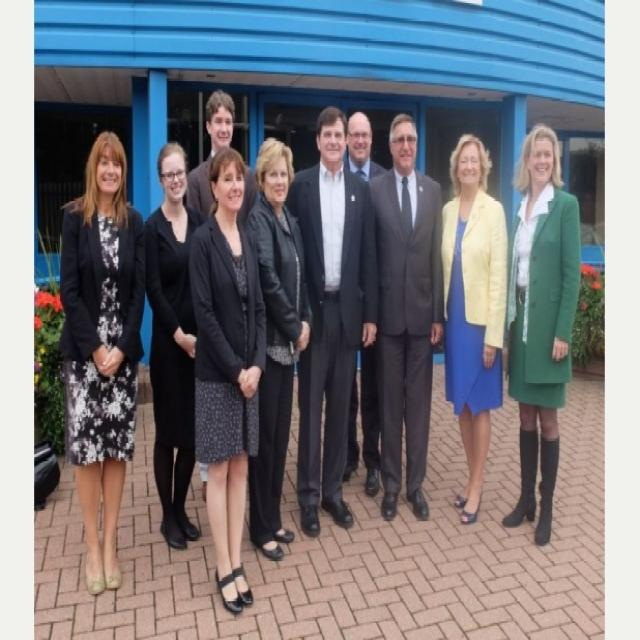body: (56, 126, 147, 597), (283, 104, 379, 536), (188, 143, 268, 619), (358, 108, 448, 523), (500, 120, 584, 548), (240, 132, 315, 563), (140, 138, 209, 551), (441, 132, 510, 526), (341, 108, 390, 497), (183, 88, 260, 234)
